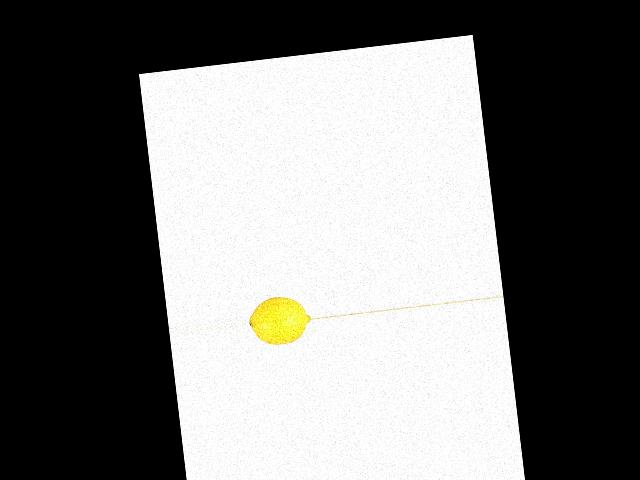lemon: (247, 293, 312, 347)
